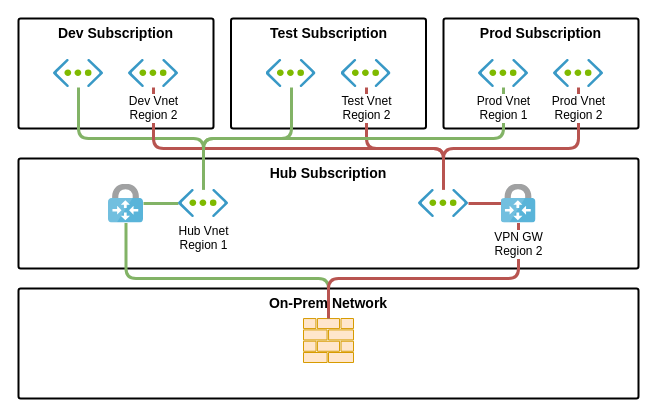
The diagram is 656 pixels wide and 416 high, and some of its shapes have lost their labels. Each missing label, with the centre of its shape:
Corporate Firewall: (328,340)
Dev Vnet Region 1: (78,73)
Hub Vnet Region 2: (443,203)
Test Vnet Region 1: (291,73)
VPN GW Region 1: (125,203)
